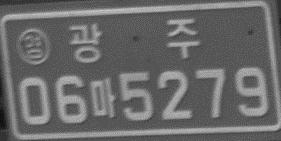0: (18, 76, 51, 126)
2: (156, 69, 192, 121)
5: (118, 70, 153, 122)
6: (53, 74, 87, 123)
7: (194, 68, 226, 119)
9: (233, 66, 268, 117)
광주_D: (67, 18, 199, 63)
마: (88, 77, 116, 118)
영: (15, 27, 52, 66)
